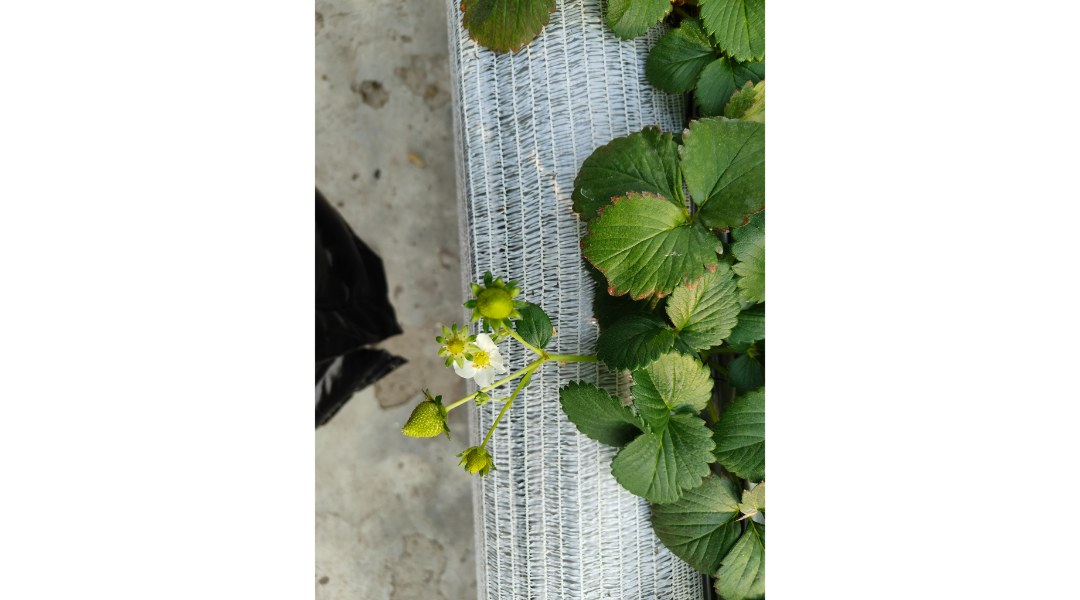berry: (469, 261, 530, 335), (395, 383, 448, 443), (428, 326, 474, 369), (463, 440, 498, 493)
flower: (464, 332, 508, 378)
strain: (492, 387, 525, 424), (454, 384, 492, 413), (547, 348, 594, 369)
